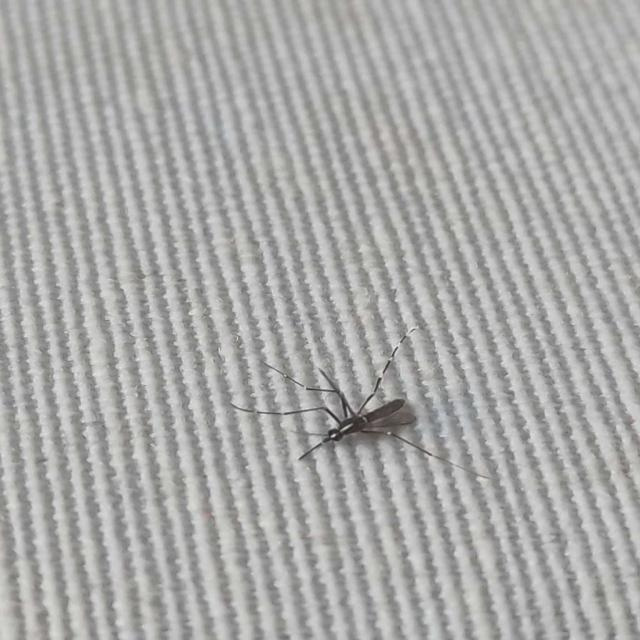albopictus: (210, 323, 492, 478)
